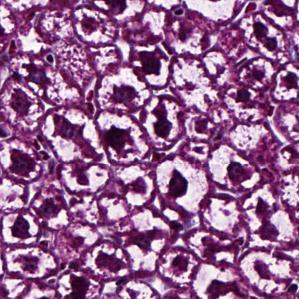inflammation: (152, 157, 215, 213), (96, 72, 151, 111), (0, 211, 43, 246)
